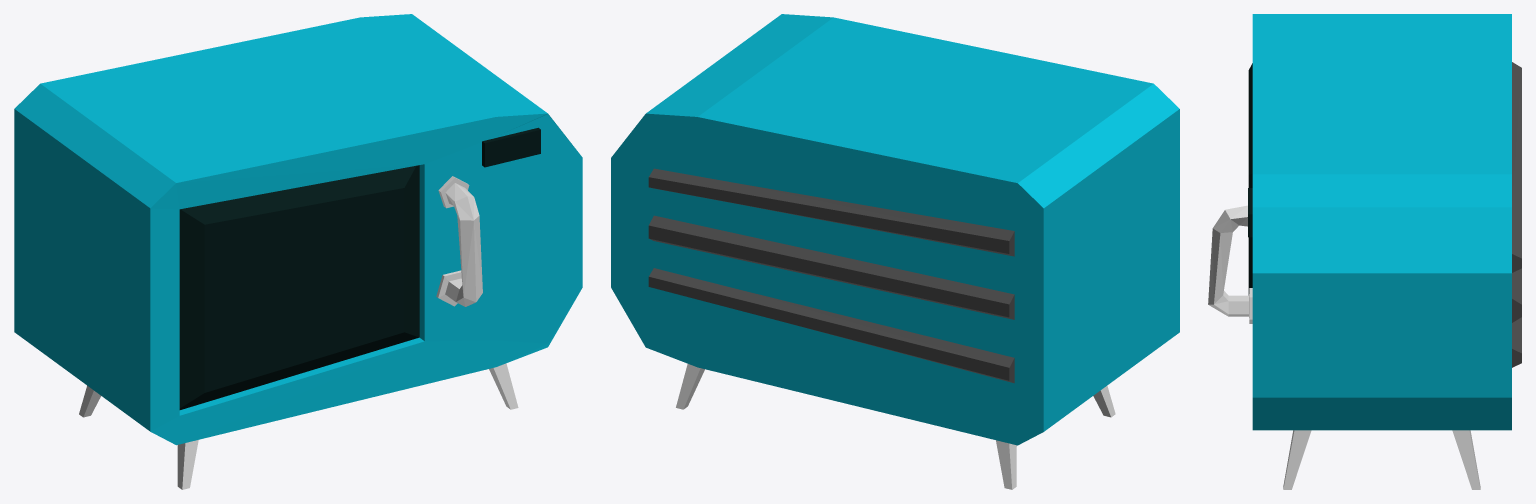
File: microwave.glb
The picture shows the model from 3 angles, left to right: view 1: azimuth 30°, elevation 25°; view 2: azimuth 150°, elevation 25°; view 3: azimuth 270°, elevation 25°; orthographic projection. The views are drawn at different scales.
Visible parts, largest first — view 1: Microwaves_02; view 2: Microwaves_02; view 3: Microwaves_02.
Part boxes in pixels (left/top/right/bottom): Microwaves_02: left=14, top=14, right=582, bottom=489; Microwaves_02: left=611, top=14, right=1179, bottom=489; Microwaves_02: left=1208, top=14, right=1521, bottom=489.
Bounding box in the file's own units: 0.5669 × 0.406 × 0.3735.
Materials: 1 (1 with a texture image).
